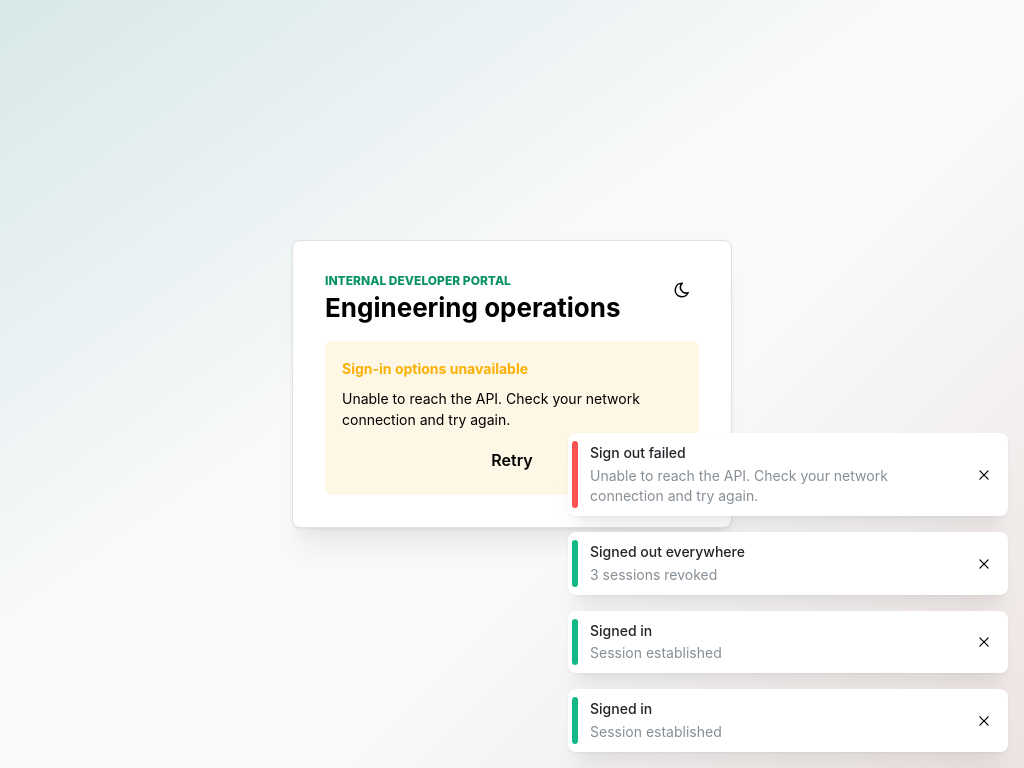
Test: App cookie session lifecycle › fails closed when auth config is unavailable and exposes an explicit retry
The width and height of the screenshot is (1024, 768).
Expected: the text "Sign-in options unavailable" is shown, top-left (342, 358), bottom-right (528, 380)
Expected: the field labelled "Username" is not shown
Click the button "Retry" at (512, 460), box top-left (342, 442), bottom-right (682, 478)
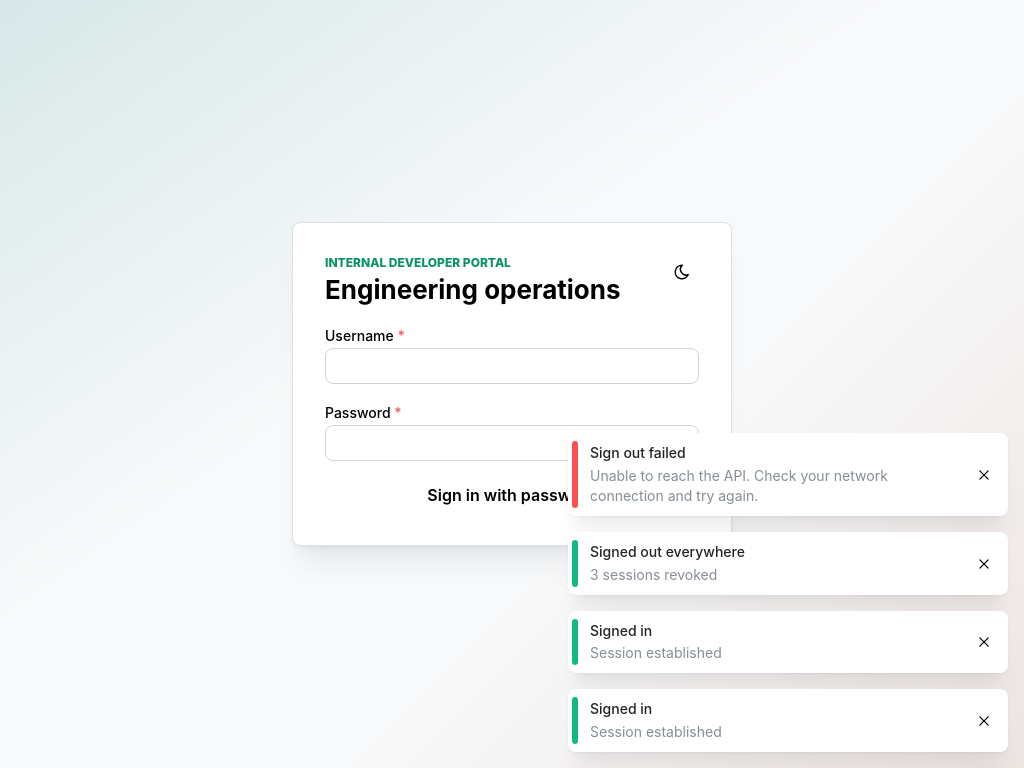
Expected: the field labelled "Username *" is shown, top-left (325, 348), bottom-right (699, 384)
